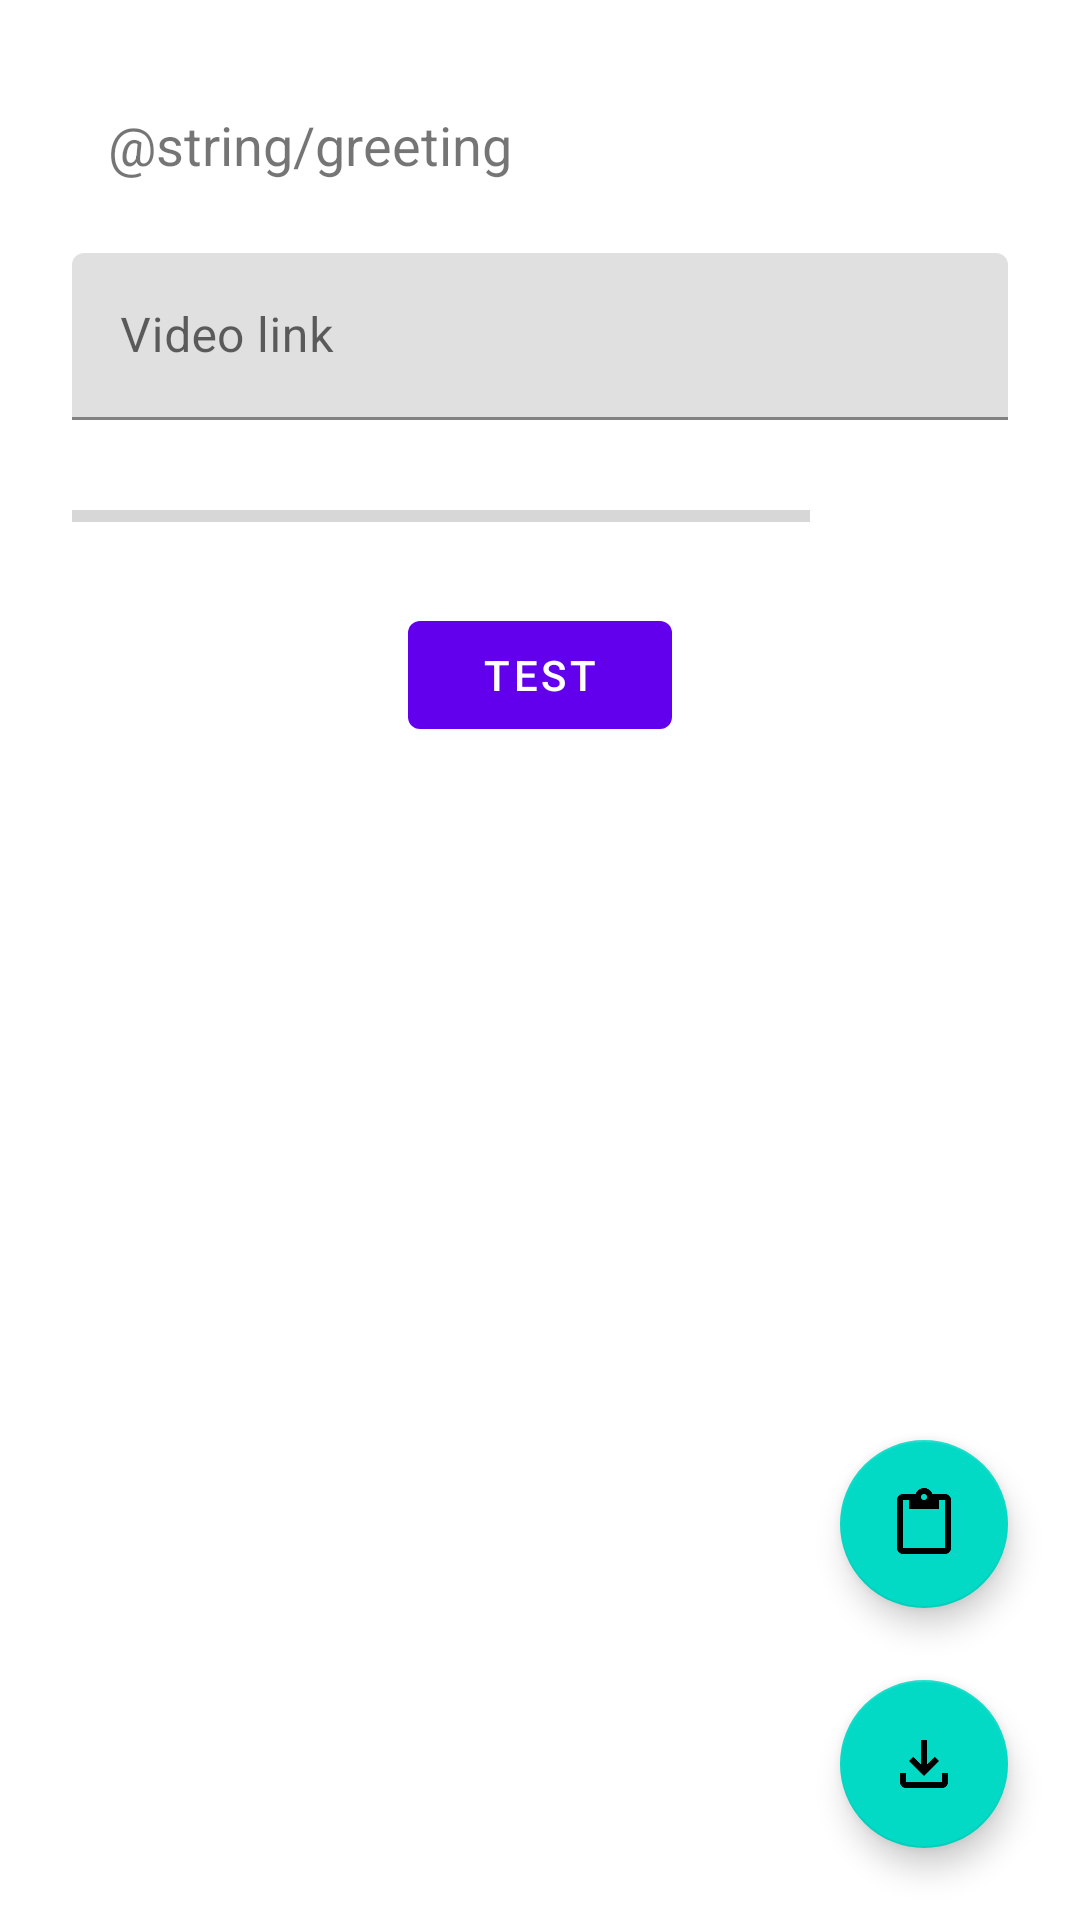

Named icons in this screenshot (1080×1920) and their bounding boxes, rect(x1, y1, x2, y2):
content paste: rect(840, 1440, 1008, 1608)
Download: rect(840, 1680, 1008, 1848)
